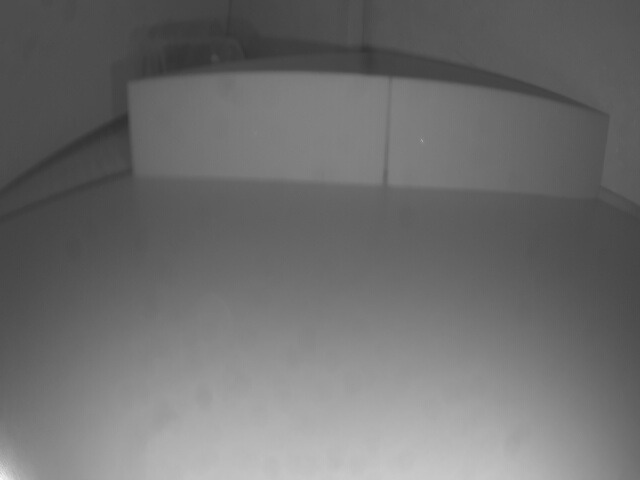Point: (126, 80, 608, 201)
